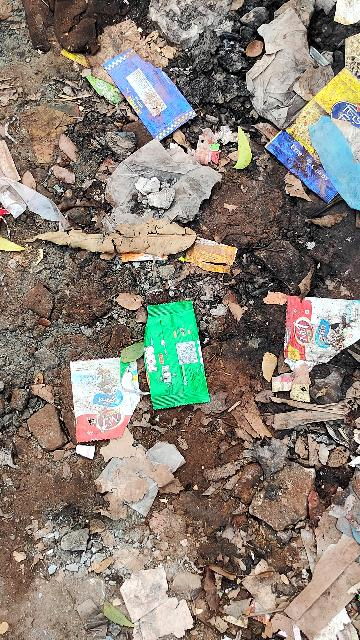packet: (85, 11, 222, 148), (271, 57, 360, 208), (141, 300, 215, 411), (280, 287, 357, 372), (75, 356, 143, 452)
